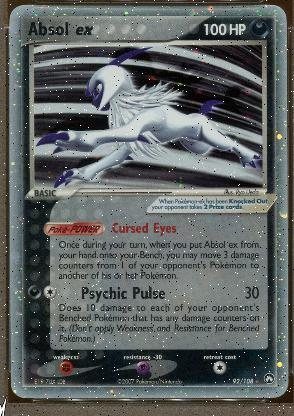Card: (8, 5, 288, 400)
